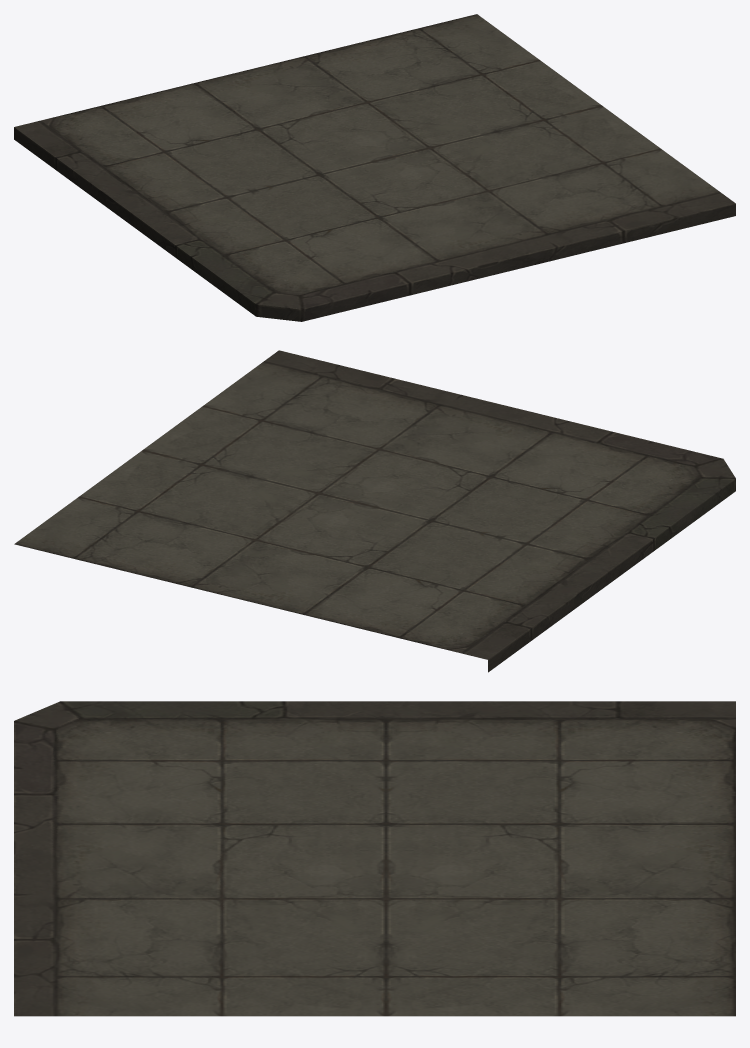
File: Stage-gongchang-bianlu1.FBX
The picture shows the model from 3 angles, top to bottom: view 1: azimuth 30°, elevation 25°; view 2: azimuth 150°, elevation 25°; view 3: azimuth 270°, elevation 25°; orthographic projection. The views are drawn at different scales.
Parts seen in each view (by area): view 1: Box420; view 2: Box420; view 3: Box420.
Boxes of the visible parts, x1=… form: Box420: x1=14, y1=14, x2=735, y2=321; Box420: x1=14, y1=350, x2=735, y2=672; Box420: x1=14, y1=701, x2=735, y2=1016.
Bounding box in the file's own units: 11.22 × 10.86 × 0.2881.
